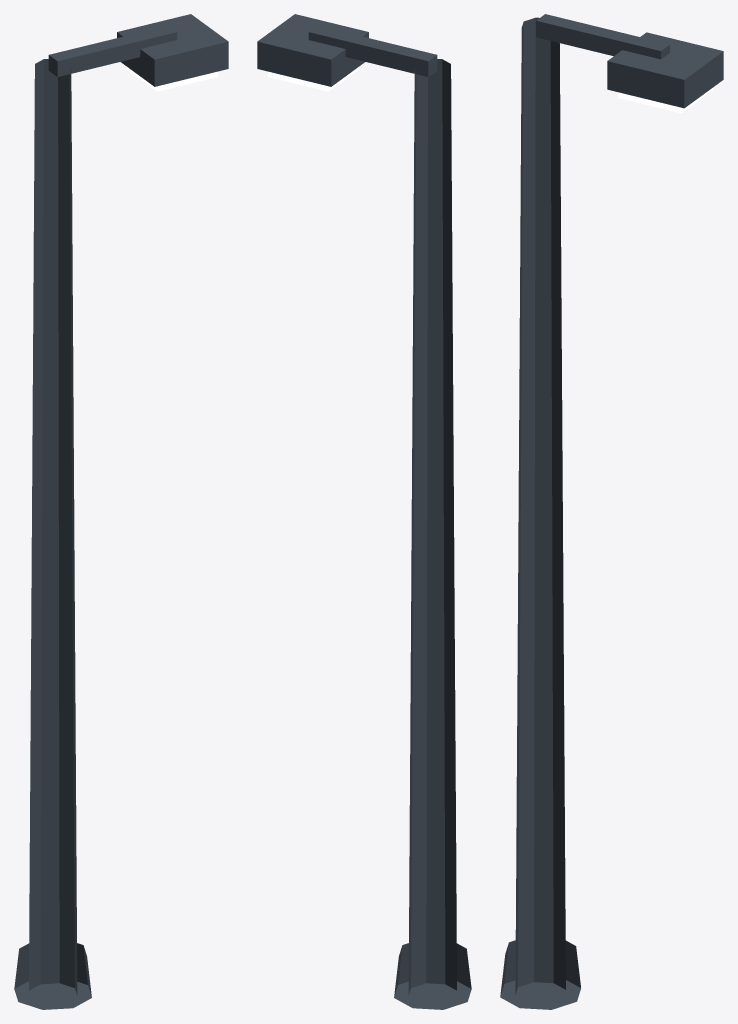
The model's file is street_lamp_01.glb.
3 views of the same model, side by side, from view 1: azimuth 30°, elevation 25°; view 2: azimuth 150°, elevation 25°; view 3: azimuth 330°, elevation 25° (orthographic). The views are drawn at different scales.
Parts seen in each view (by area): view 1: street_lamp_01; view 2: street_lamp_01; view 3: street_lamp_01.
Part boxes in pixels (box(x1,y1,x2,y2)): street_lamp_01: box(14, 14, 228, 1009); street_lamp_01: box(257, 14, 471, 1009); street_lamp_01: box(500, 14, 723, 1009).
Bounding box in the file's own units: 0.88 × 4.11 × 0.32.
